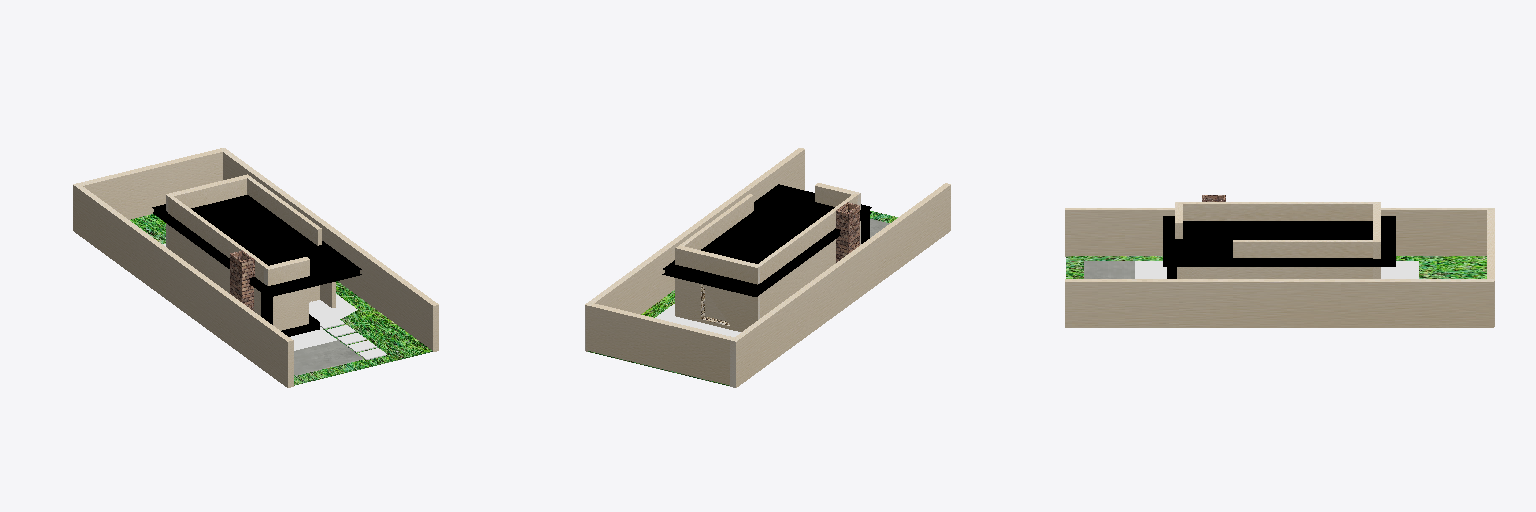
3 renders of one model, left to right at view 1: azimuth 30°, elevation 25°; view 2: azimuth 150°, elevation 25°; view 3: azimuth 270°, elevation 25°, orthographic.
Parts seen in each view (by area): view 1: ExteriorInterior:polySurface48; view 2: ExteriorInterior:polySurface48; view 3: ExteriorInterior:polySurface48.
Boxes of the visible parts, x1,y1,x2,y2 form: ExteriorInterior:polySurface48: [73, 148, 438, 387]; ExteriorInterior:polySurface48: [585, 148, 950, 387]; ExteriorInterior:polySurface48: [1065, 195, 1494, 327].
Size of the model in its own units: 62.89 by 27.97 by 154.
15 materials, 11 textured.